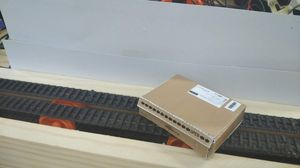box2: (136, 72, 247, 160)
